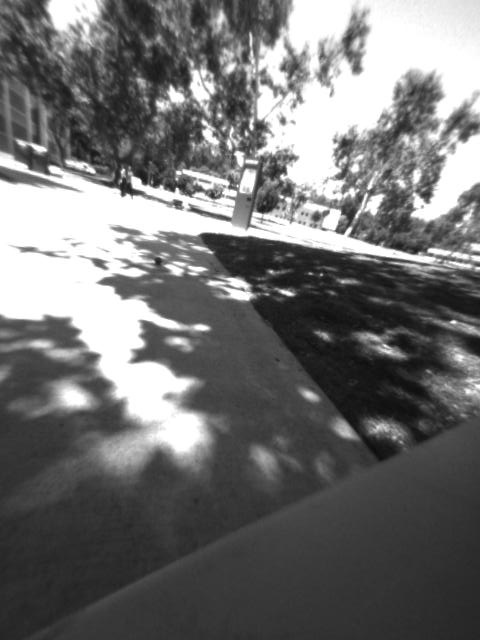dogtoy: (148, 251, 171, 271)
